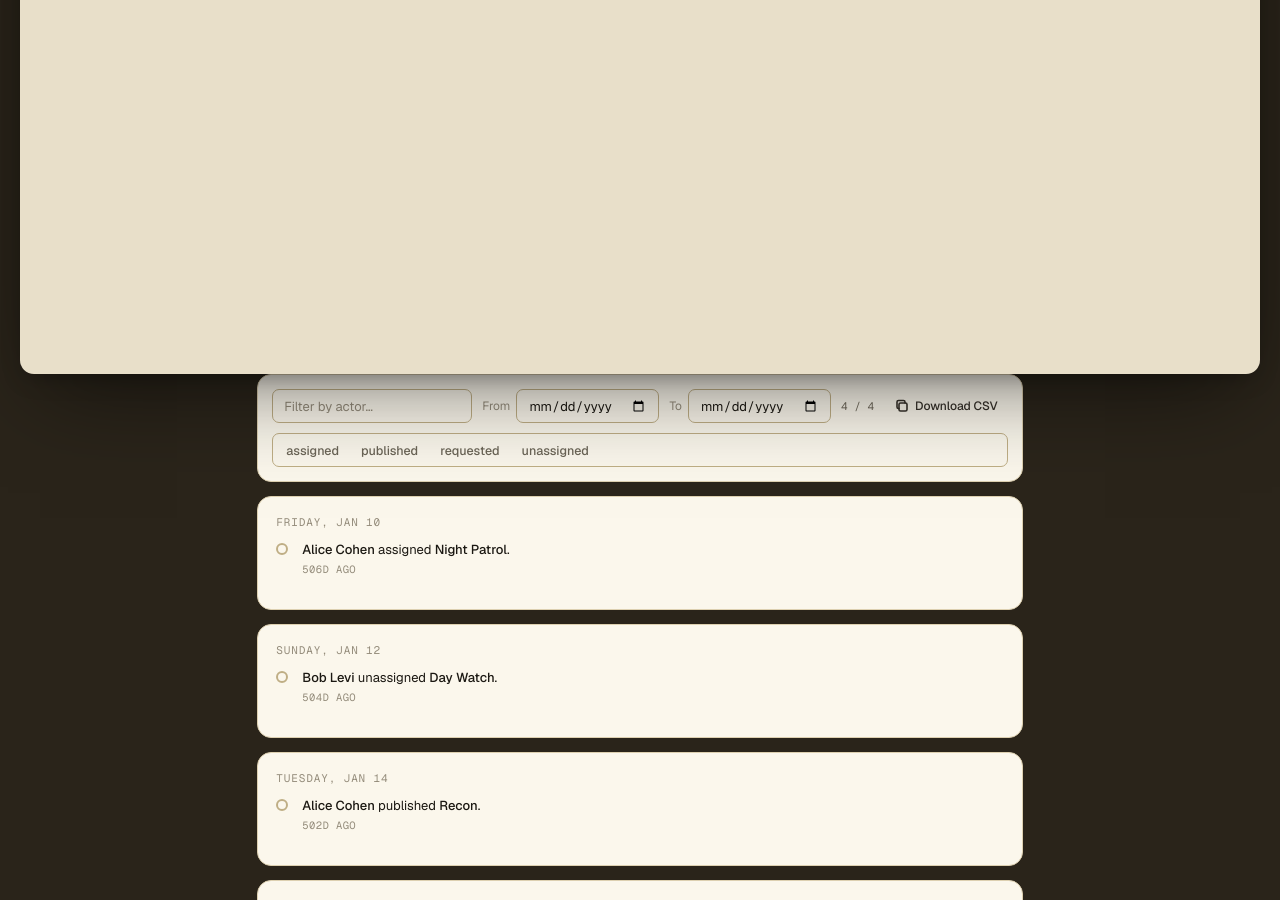
Test case: ActivityScreen › filters by verb chip (multi-select)
(page scrolled)
Click the button "assigned".
click(313, 450)  # box 275,436 -> 350,464
(page scrolled)
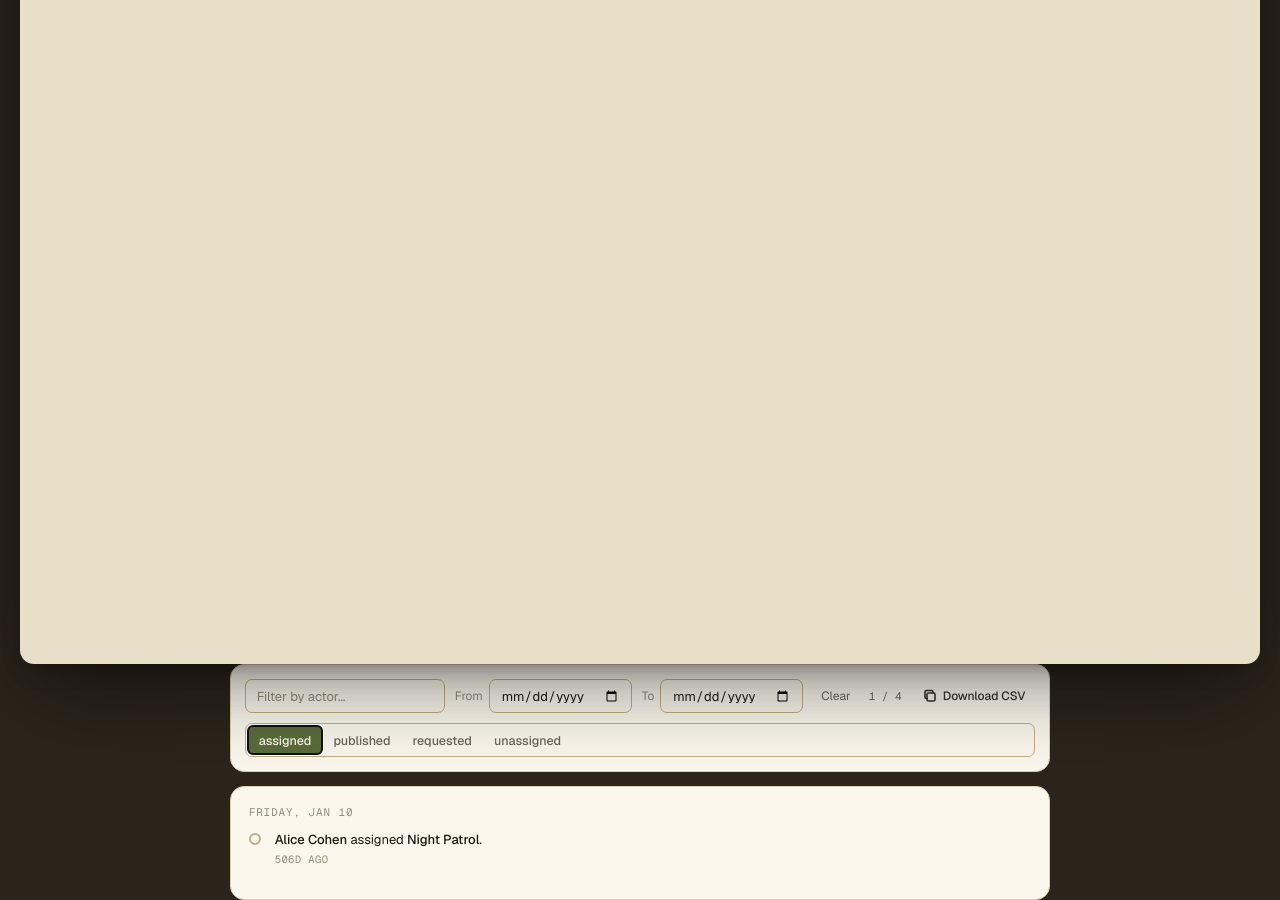
Expected: the text "Alice Cohen" is shown, 275,831 -> 347,848
Expected: the text "Bob Levi" is gone
Expected: the text "1 / 4" is shown, 869,689 -> 902,703
# Add another verb to the selection — multi-select.
Click the button "requested".
click(442, 740)  # box 402,726 -> 483,754
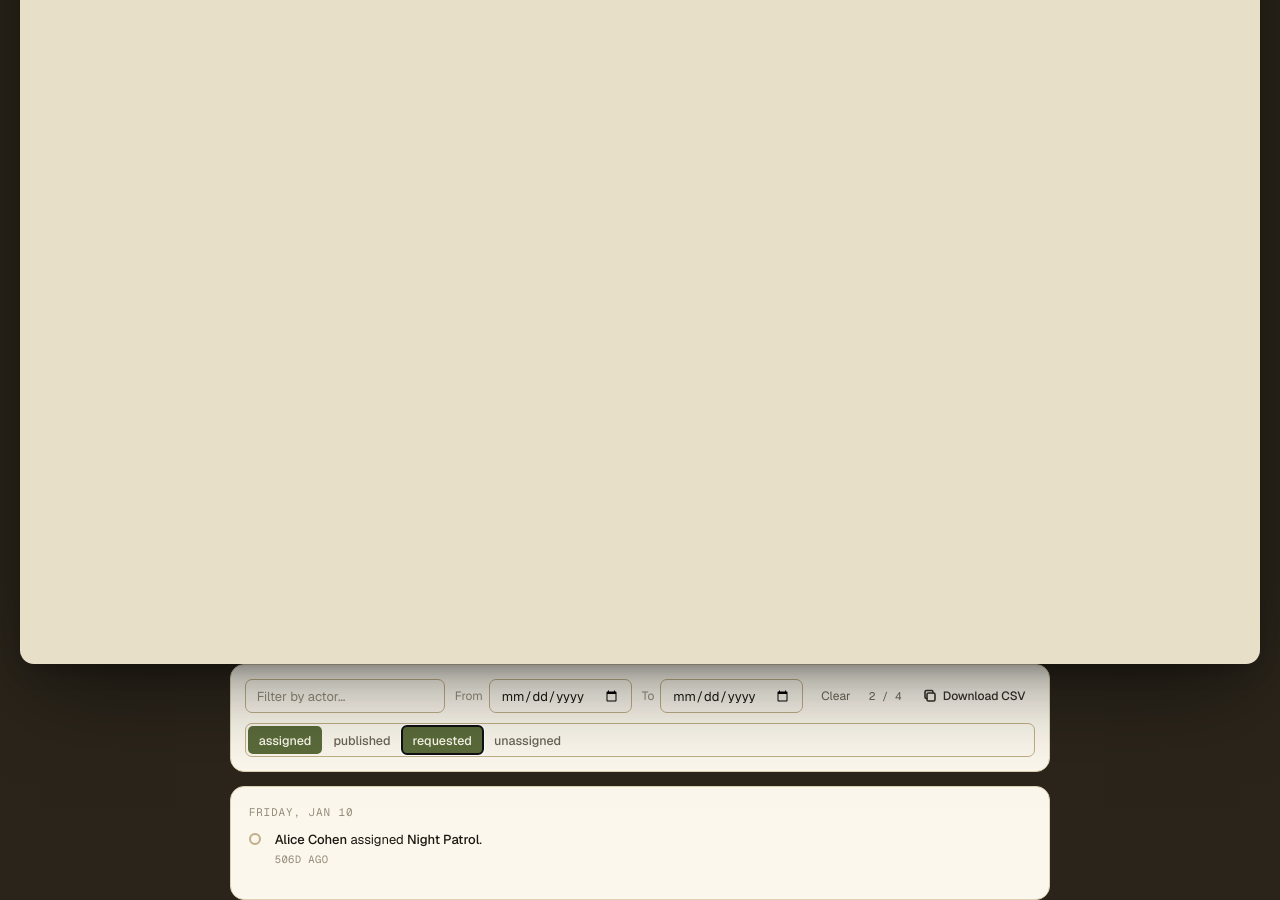
Expected: the text "2 / 4" is shown, 869,689 -> 902,703
